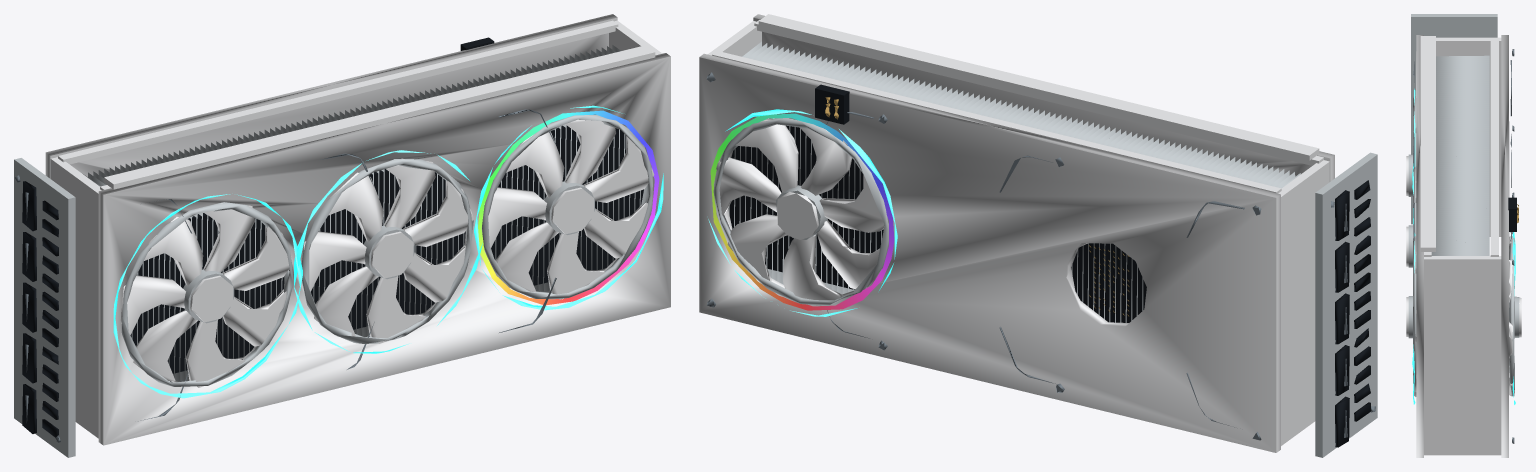
Rendered from display90-gpu.glb.
The picture shows the model from 3 angles, left to right: view 1: azimuth 30°, elevation 25°; view 2: azimuth 150°, elevation 25°; view 3: azimuth 270°, elevation 25°; orthographic projection. The views are drawn at different scales.
Visible parts, largest first — view 1: s83-surface-177438f8-f821-40b1-89b5-13c50f11c217, s83-fan-0, s83-fan-1, s83-fan-2, s83-surface-77376c24-1ec4-4e71-af04-2599e8da41b6, s83-surface-506897e4-eac1-4b7f-b889-e97223a09df9; view 2: s83-surface-177438f8-f821-40b1-89b5-13c50f11c217, s83-surface-506897e4-eac1-4b7f-b889-e97223a09df9, s83-surface-77376c24-1ec4-4e71-af04-2599e8da41b6; view 3: s83-surface-177438f8-f821-40b1-89b5-13c50f11c217, s83-surface-77376c24-1ec4-4e71-af04-2599e8da41b6, s83-fan-2 (×2), s83-fan-1 (×2), s83-fan-0.
Boxes of the visible parts, x1,y1,x2,y2 form: s83-surface-177438f8-f821-40b1-89b5-13c50f11c217: (14,14,670,457); s83-fan-0: (120,203,293,387); s83-fan-1: (304,158,473,343); s83-fan-2: (482,119,654,299); s83-surface-77376c24-1ec4-4e71-af04-2599e8da41b6: (113,105,663,398); s83-surface-506897e4-eac1-4b7f-b889-e97223a09df9: (478,110,659,305); s83-surface-177438f8-f821-40b1-89b5-13c50f11c217: (699,14,1377,457); s83-surface-506897e4-eac1-4b7f-b889-e97223a09df9: (710,113,894,310); s83-surface-77376c24-1ec4-4e71-af04-2599e8da41b6: (708,109,897,316); s83-surface-177438f8-f821-40b1-89b5-13c50f11c217: (1411,14,1521,457); s83-surface-77376c24-1ec4-4e71-af04-2599e8da41b6: (1412,88,1515,404); s83-fan-2 (×2): (1406,237,1416,391); s83-fan-1 (×2): (1406,166,1416,267); s83-fan-0: (1408,154,1412,197).
Bounding box in the file's own units: 1.83 × 0.7795 × 0.3736.
3 materials, 3 textured.
